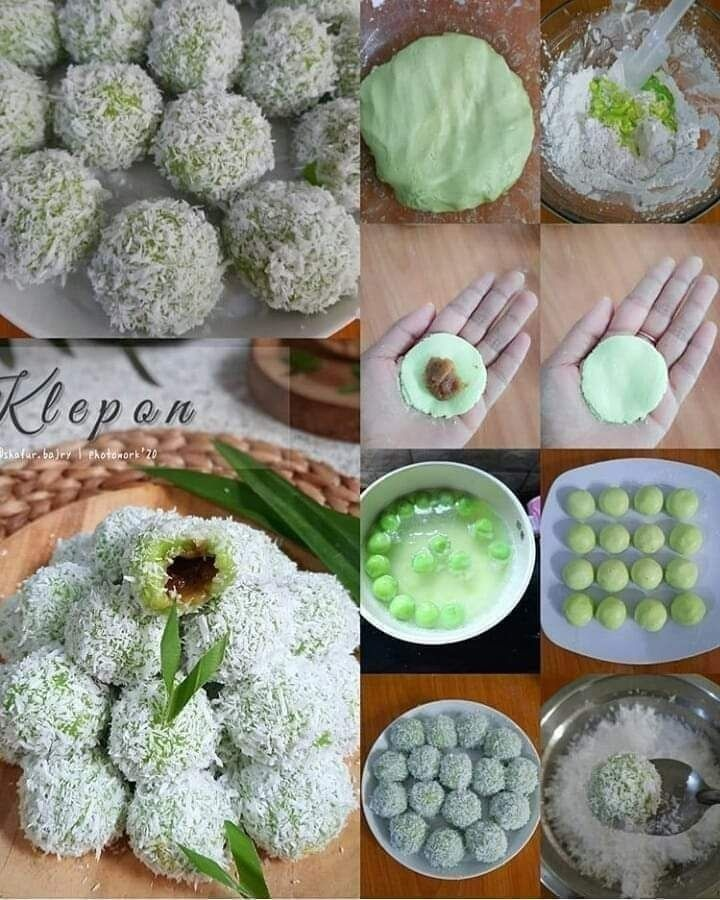klepon: (88, 196, 242, 333)
